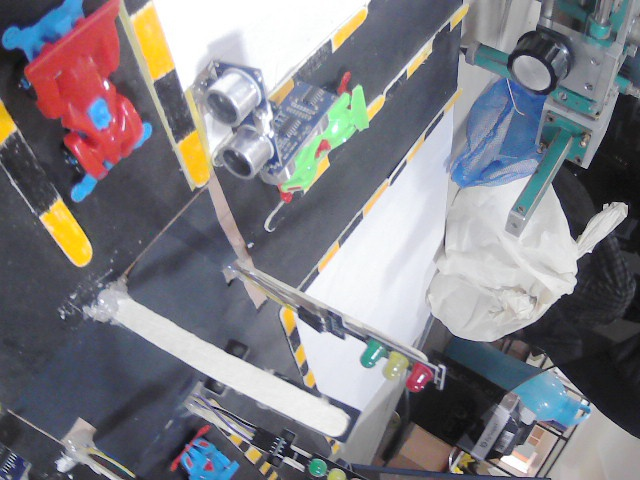car: (0, 0, 160, 204), (282, 84, 370, 192), (173, 428, 242, 480)
traffic_light: (357, 338, 451, 390), (302, 453, 384, 480)
uno_breadboard: (192, 67, 293, 185), (3, 444, 29, 480)
